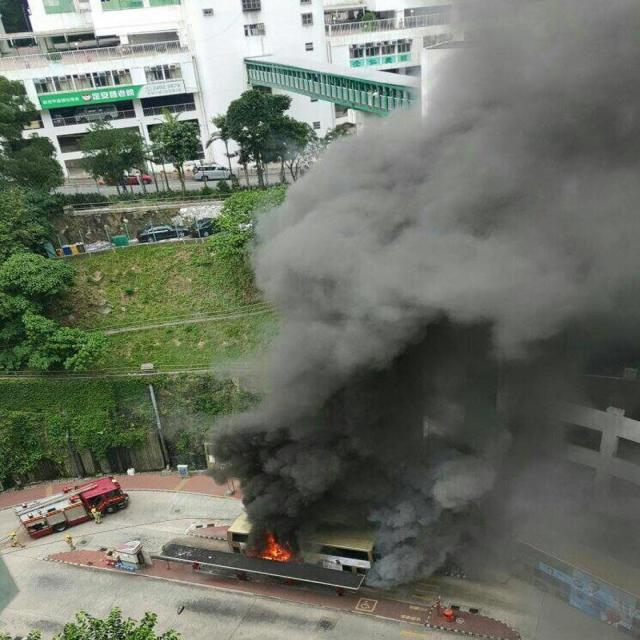Fire: (255, 529, 292, 563)
Smoke: (205, 1, 640, 590)
